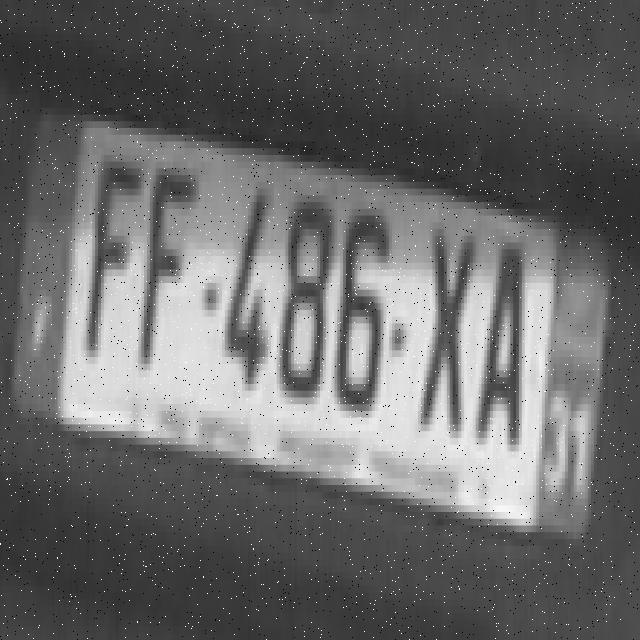Autre: (7, 116, 609, 528)
